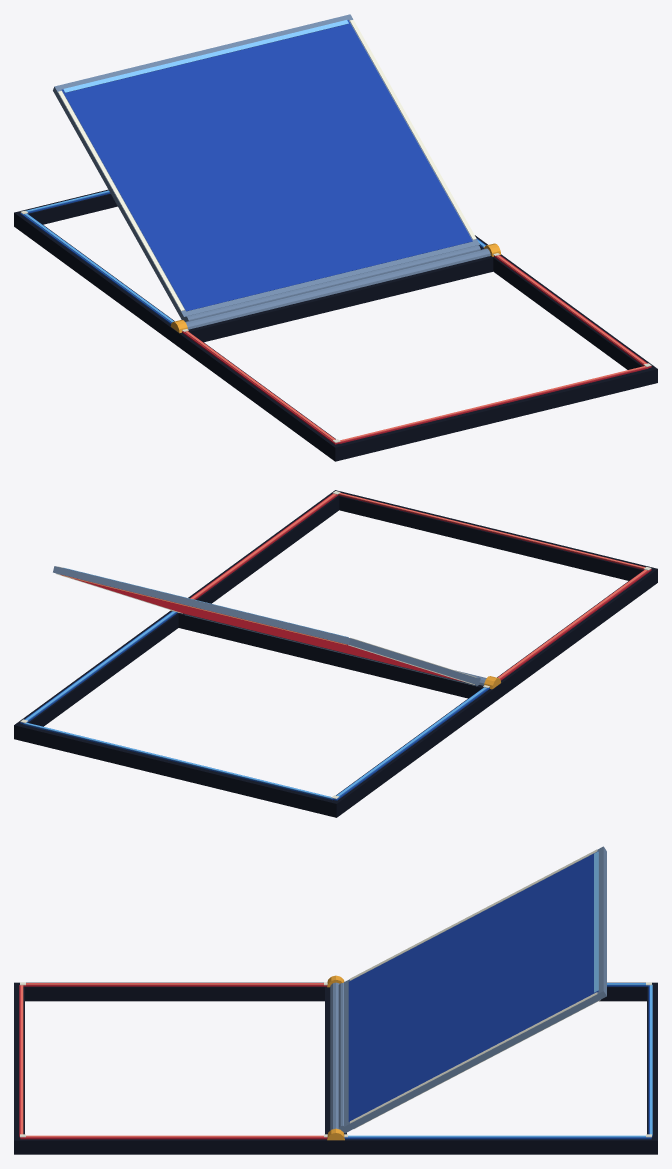
The model's file is jump_flip_pair_flip_04.obj.
3 renders of one model, top to bottom at view 1: azimuth 30°, elevation 25°; view 2: azimuth 150°, elevation 25°; view 3: azimuth 270°, elevation 25°, orthographic.
Visible parts, largest first — view 1: blue_top, red_end_shell, red_side_shell, reversible_leaf, blue_side_shell, hinge_axle, blue_side_trim, red_border, red_rim_light, leaf_hinge, blue_end_bar, blue_end_shell (+2 smaller); view 2: blue_end_shell, blue_side_shell, red_side_shell, red_end_shell, reversible_leaf, red_bottom, blue_rim_light, red_rim_light, blue_border, red_border, leaf_hinge; view 3: blue_top, red_side_shell, blue_side_shell, reversible_leaf, red_border, red_rim_light, red_end_shell, blue_side_trim, blue_rim_light, blue_border, blue_end_shell, hinge_axle (+2 smaller).
Part boxes in pixels (x1,y1,x2,y2): blue_top: (62, 20, 472, 311); red_end_shell: (174, 254, 657, 461); red_side_shell: (174, 255, 657, 461); reversible_leaf: (53, 14, 479, 320); blue_side_shell: (14, 210, 487, 340); hinge_axle: (185, 248, 490, 329); blue_side_trim: (58, 19, 476, 311); red_border: (182, 255, 651, 444); red_rim_light: (185, 255, 646, 442); leaf_hinge: (184, 245, 480, 321); blue_end_bar: (63, 20, 348, 92); blue_end_shell: (14, 189, 174, 341); blue_end_shell: (14, 611, 497, 816); blue_side_shell: (14, 610, 497, 817); red_side_shell: (188, 490, 657, 699); red_end_shell: (330, 490, 657, 688); reversible_leaf: (53, 566, 479, 685); red_bottom: (60, 574, 463, 681); blue_rim_light: (24, 611, 486, 798); red_rim_light: (191, 493, 647, 678); blue_border: (20, 611, 489, 800); red_border: (190, 493, 651, 680); leaf_hinge: (184, 614, 480, 686); blue_top: (348, 851, 598, 1121); red_side_shell: (14, 982, 335, 1154); blue_side_shell: (336, 982, 657, 1154); reversible_leaf: (343, 846, 606, 1132); red_border: (19, 983, 327, 1139); red_rim_light: (20, 983, 323, 1137); red_end_shell: (14, 983, 335, 1154); blue_side_trim: (350, 849, 597, 1123); blue_rim_light: (348, 983, 652, 1137); blue_border: (344, 983, 652, 1139); blue_end_shell: (336, 982, 657, 1154); hinge_axle: (330, 982, 339, 1130).
Bounding box in the file's own units: 11.6 × 5.38 × 20.
